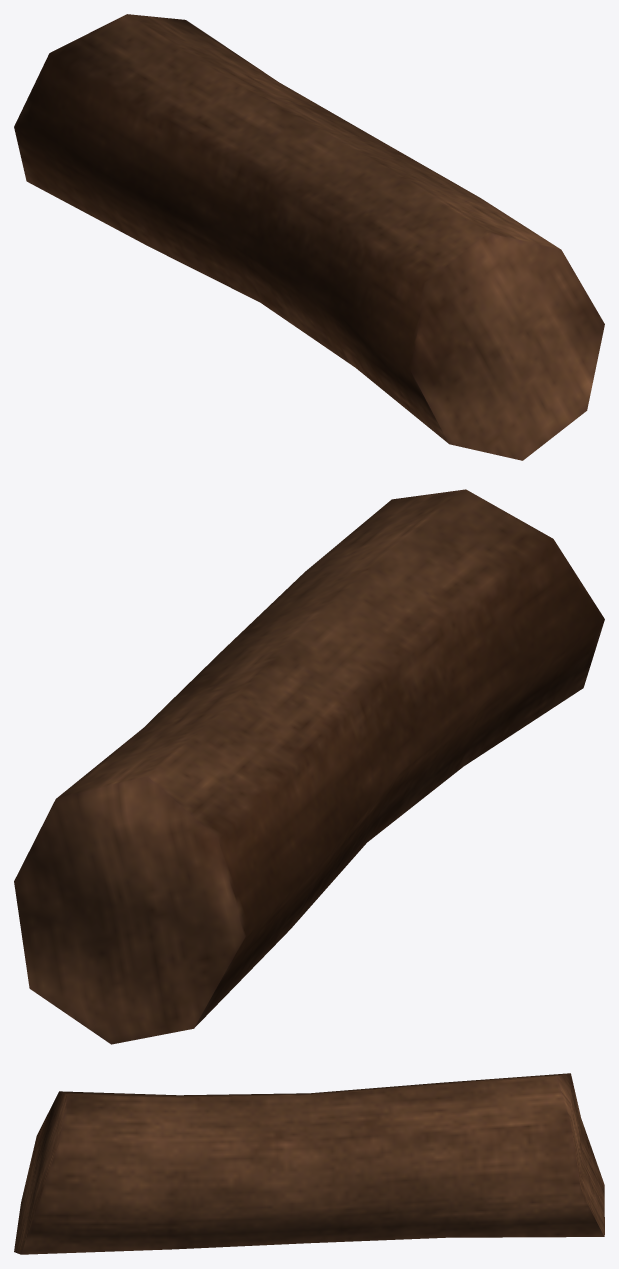
Rendered from Firewood 1.fbx.
The picture shows the model from 3 angles, top to bottom: view 1: azimuth 30°, elevation 25°; view 2: azimuth 150°, elevation 25°; view 3: azimuth 270°, elevation 25°; orthographic projection. The views are drawn at different scales.
Parts seen in each view (by area): view 1: Firewood 1; view 2: Firewood 1; view 3: Firewood 1.
Boxes of the visible parts, x1,y1,x2,y2 form: Firewood 1: [14, 14, 604, 460]; Firewood 1: [14, 489, 604, 1044]; Firewood 1: [14, 1073, 604, 1254].
Bounding box in the file's own units: 0.1492 × 0.1199 × 0.4075.
